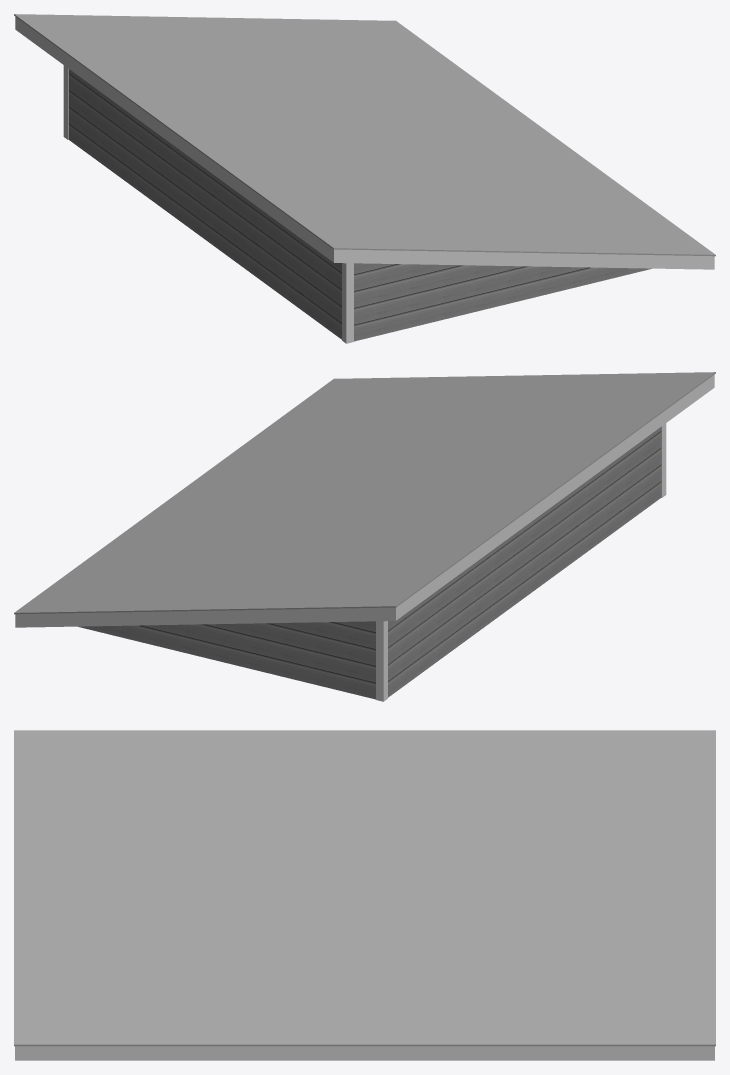
Rendered from slant.glb.
3 views of the same model, one above another, from view 1: azimuth 30°, elevation 25°; view 2: azimuth 150°, elevation 25°; view 3: azimuth 270°, elevation 25° (orthographic). The views are drawn at different scales.
Parts seen in each view (by area): view 1: Roof_Top_2, Roof_exterior, Roof_Siding_2, Vertical_Trim_2; view 2: Roof_Top_2, Roof_exterior, Roof_Siding_2, Vertical_Trim_2; view 3: Roof_Top_2, Roof_Siding_2.
Boxes of the visible parts, x1=… form: Roof_Top_2: x1=14, y1=14, x2=715, y2=256; Roof_exterior: x1=68, y1=69, x2=651, y2=341; Roof_Siding_2: x1=15, y1=16, x2=714, y2=269; Vertical_Trim_2: x1=63, y1=65, x2=353, y2=343; Roof_Top_2: x1=14, y1=372, x2=715, y2=614; Roof_exterior: x1=78, y1=427, x2=661, y2=699; Roof_Siding_2: x1=15, y1=374, x2=714, y2=627; Vertical_Trim_2: x1=376, y1=423, x2=666, y2=701; Roof_Top_2: x1=14, y1=730, x2=715, y2=1046; Roof_Siding_2: x1=15, y1=1046, x2=714, y2=1060.
Size of the model in its own units: 5.89 by 1.72 by 8.53.
7 materials, 2 textured.
